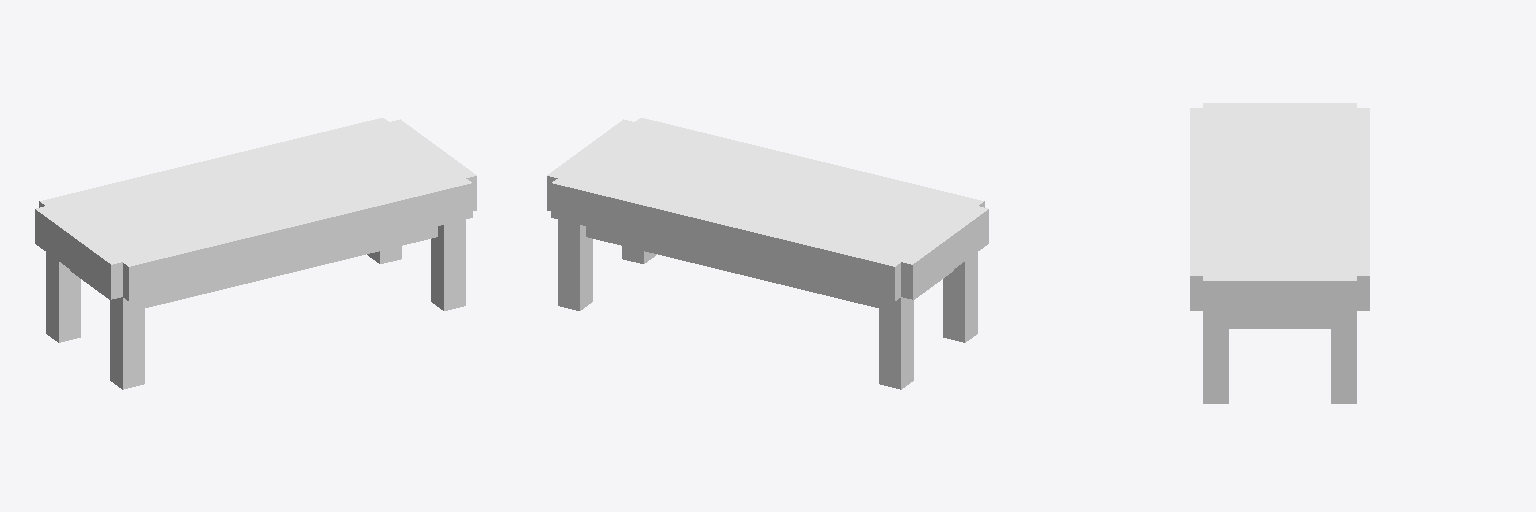
The model's file is long_chair.obj.
The picture shows the model from 3 angles: view 1: azimuth 30°, elevation 25°; view 2: azimuth 150°, elevation 25°; view 3: azimuth 270°, elevation 25°; orthographic projection.
Visible parts, largest first — view 1: object 1; view 2: object 1; view 3: object 1.
Boxes of the visible parts, x1=… form: object 1: x1=35, y1=118, x2=476, y2=389; object 1: x1=547, y1=118, x2=988, y2=389; object 1: x1=1190, y1=103, x2=1369, y2=403.
Size of the model in its own units: 3.3 by 1.1 by 1.4.